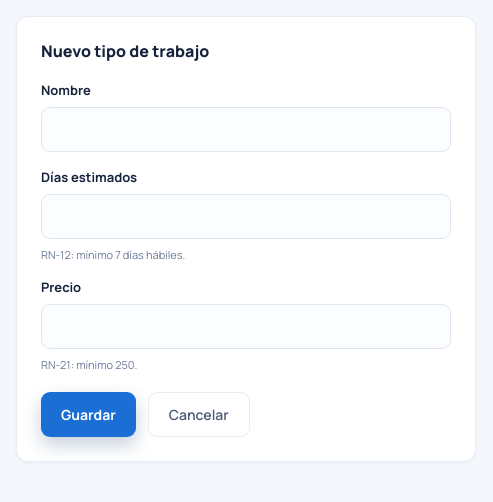
TipoTrabajoFormulario — modo alta › RN-21: precio insuficiente muestra el mensaje del backend bajo el campo
The width and height of the screenshot is (493, 502).
Type "X" into the field labelled "Nombre" at {"x": 246, "y": 130}, box x1=41 y1=107 x2=451 y2=152
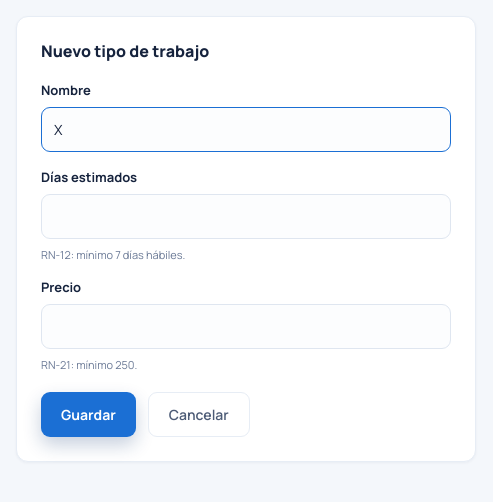
Type "7" into the number field labelled "Días estimados" at {"x": 246, "y": 216}, box x1=41 y1=194 x2=451 y2=239
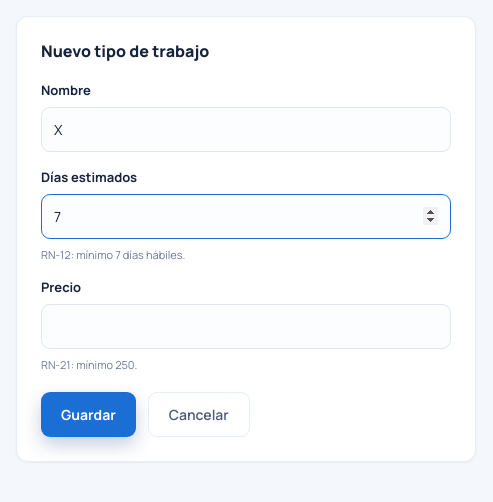
Type "249" into the number field labelled "Precio" at {"x": 246, "y": 326}, box x1=41 y1=304 x2=451 y2=349
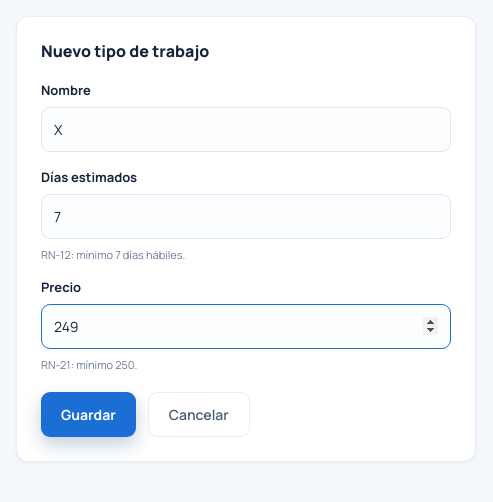
Click the button "Guardar" at {"x": 88, "y": 414}, box x1=41 y1=392 x2=136 y2=437
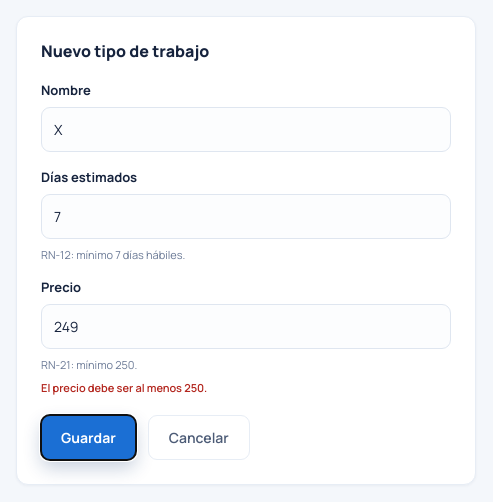
Result: the text "El precio debe ser al menos 250." is shown at x1=41 y1=380 x2=207 y2=395
